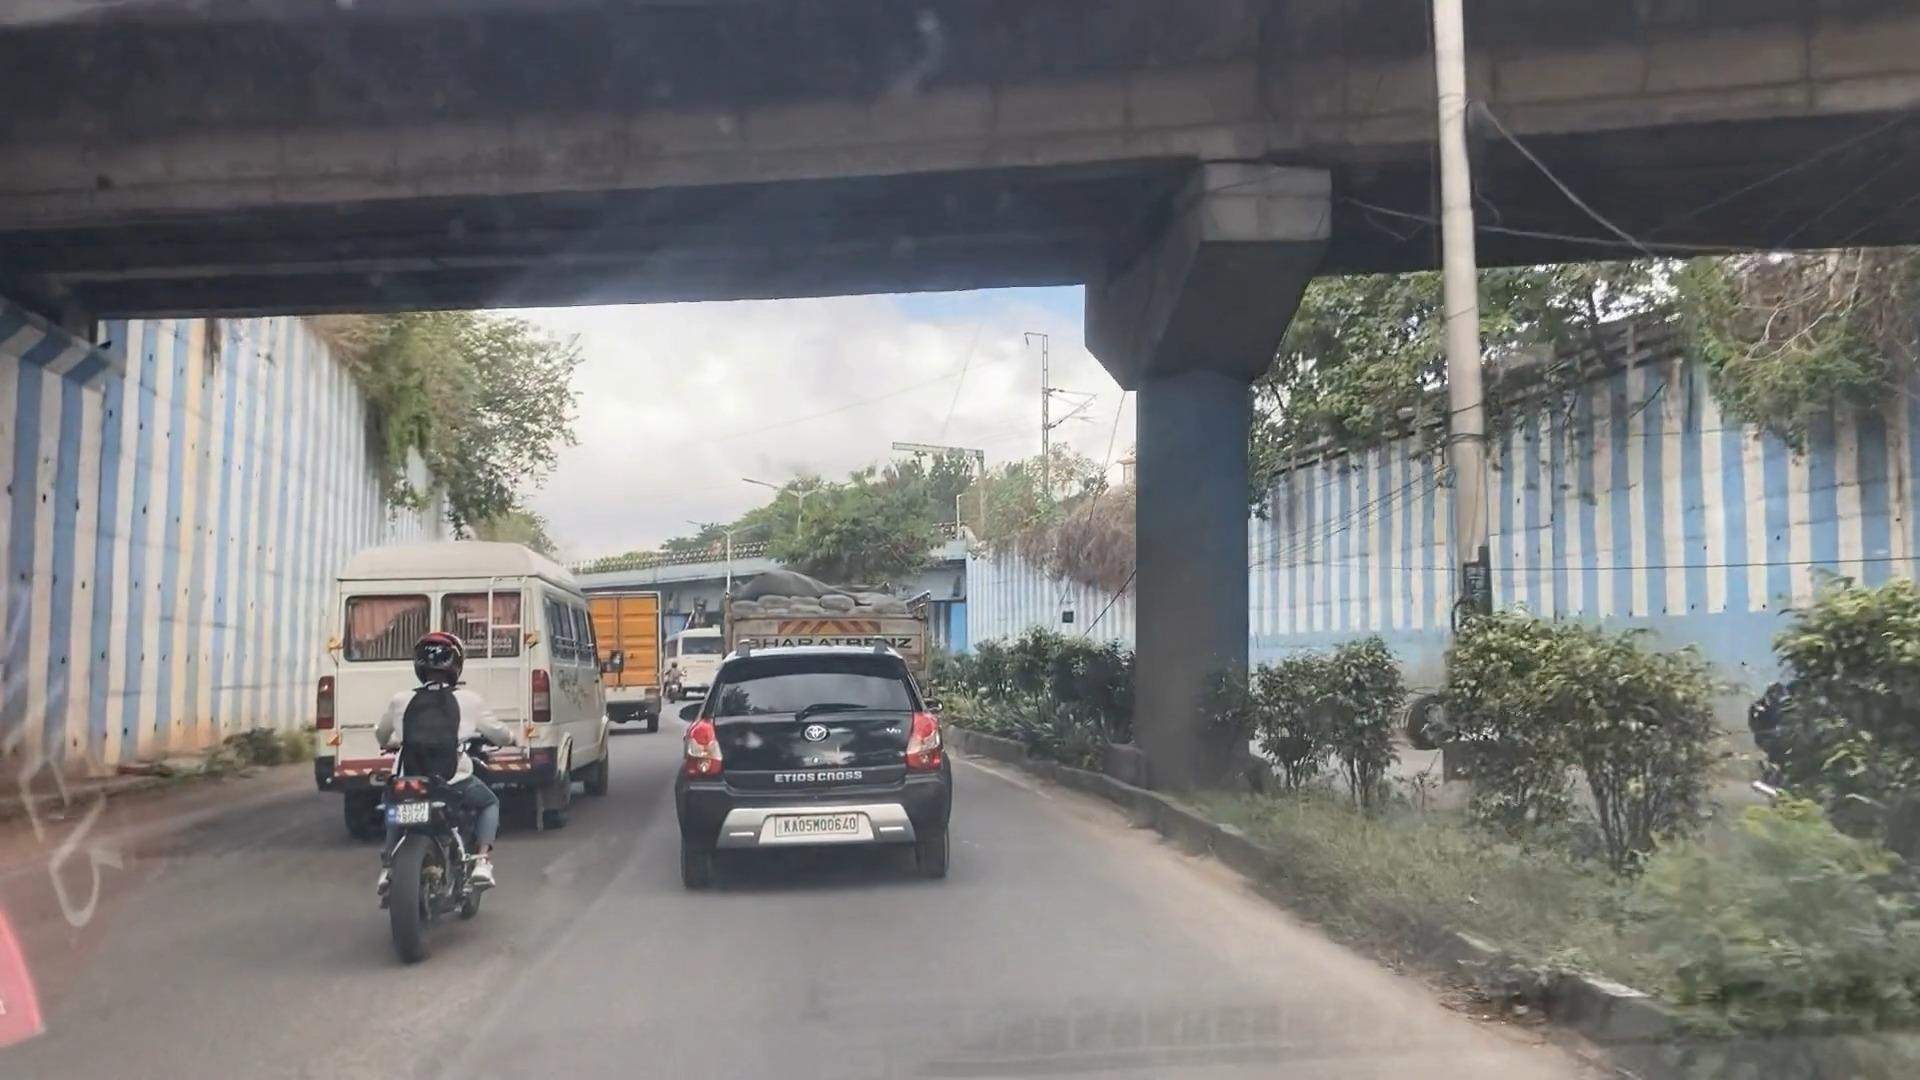HMV: (316, 547, 604, 816)
LMV: (691, 666, 957, 889), (375, 644, 502, 972)
